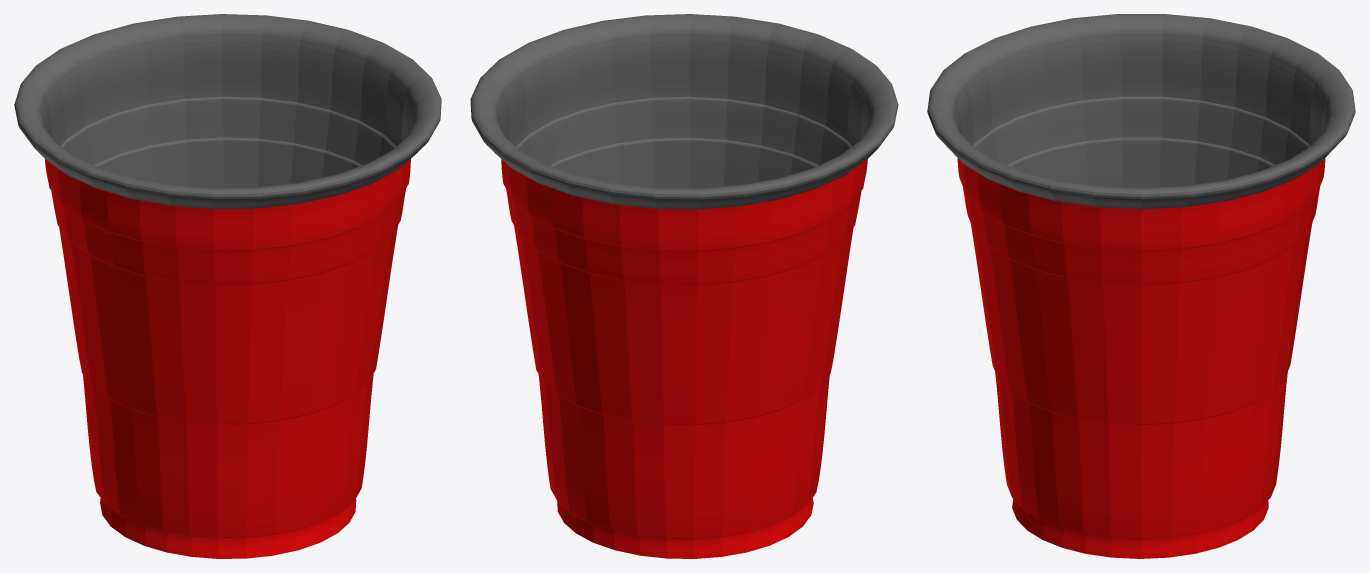
3 views of the same model, side by side, from view 1: azimuth 30°, elevation 25°; view 2: azimuth 150°, elevation 25°; view 3: azimuth 270°, elevation 25° (orthographic).
Size of the model in its own units: 0.0962 by 0.1 by 0.0964.
1 material, 1 textured.
